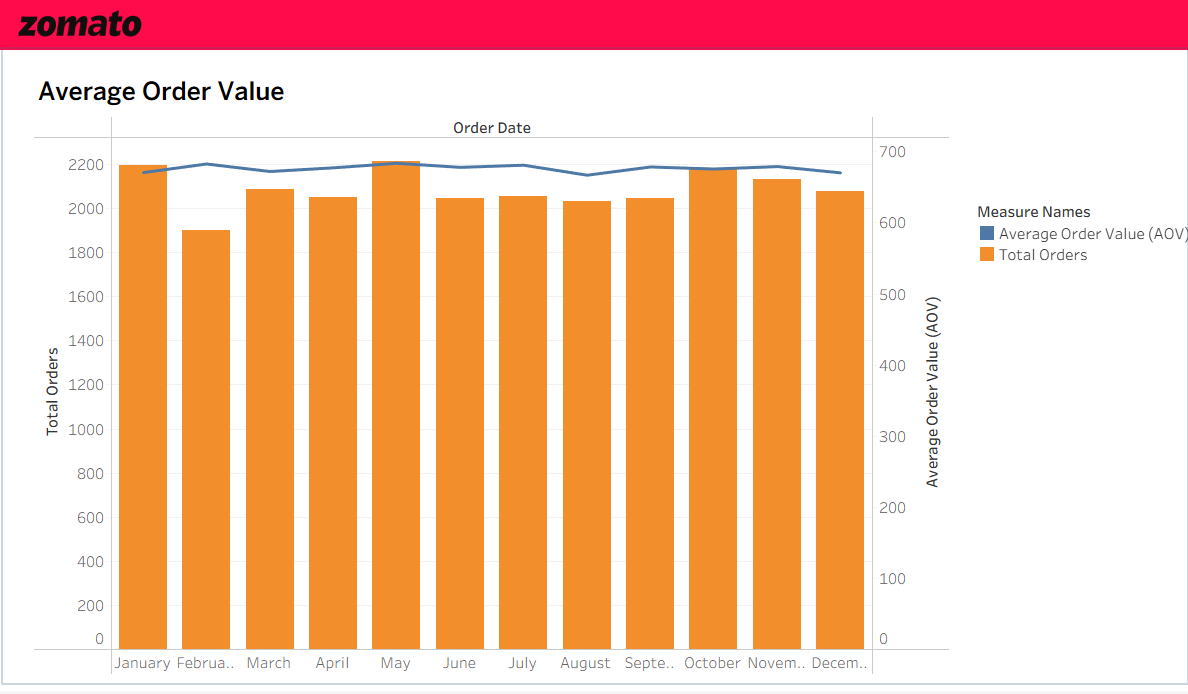

The page's visual inventory and layout, read from the dashboard file:
{"tool":"tableau","page":{"name":"Dashboard 4 ","canvas":[1200,700],"ordinal":3},"visuals":[{"type":"title","box":[8,8,1184,50]},{"type":"image","param":"C:/Windows/TEMP/TableauTemp/0esnb9h1lhfjdu1g6ovva0gaqgk4/Sheets2/Image/Zomato_Lo","box":[10,10,150,44]},{"type":"worksheet","title":"Sheet 8","mark":"Automatic","rows":["Calculation_630504008621113345","Calculation_630504008621240323"],"cols":["order_date"],"box":[39,81,917,603]},{"type":"legend","title":"Sheet 8","param":"[federated.00f81pu1ad2aau1evwi090qmuthq].[:Measure Names]","box":[982,210,218,64]}]}

Visuals, with their boxes in screenshot pixels (x1, y1, x2, y2), scaled from the page's 1200x700 canvas onto the 1188x694 screenshot:
title: bbox=(8, 8, 1180, 58)
image: bbox=(10, 10, 158, 54)
"Sheet 8" worksheet: bbox=(39, 80, 946, 678)
"Sheet 8" legend: bbox=(972, 208, 1187, 272)
